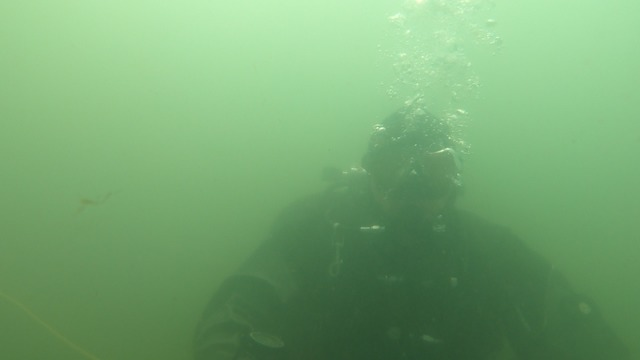Diver: (170, 95, 637, 354)
Head: (355, 98, 487, 249)
